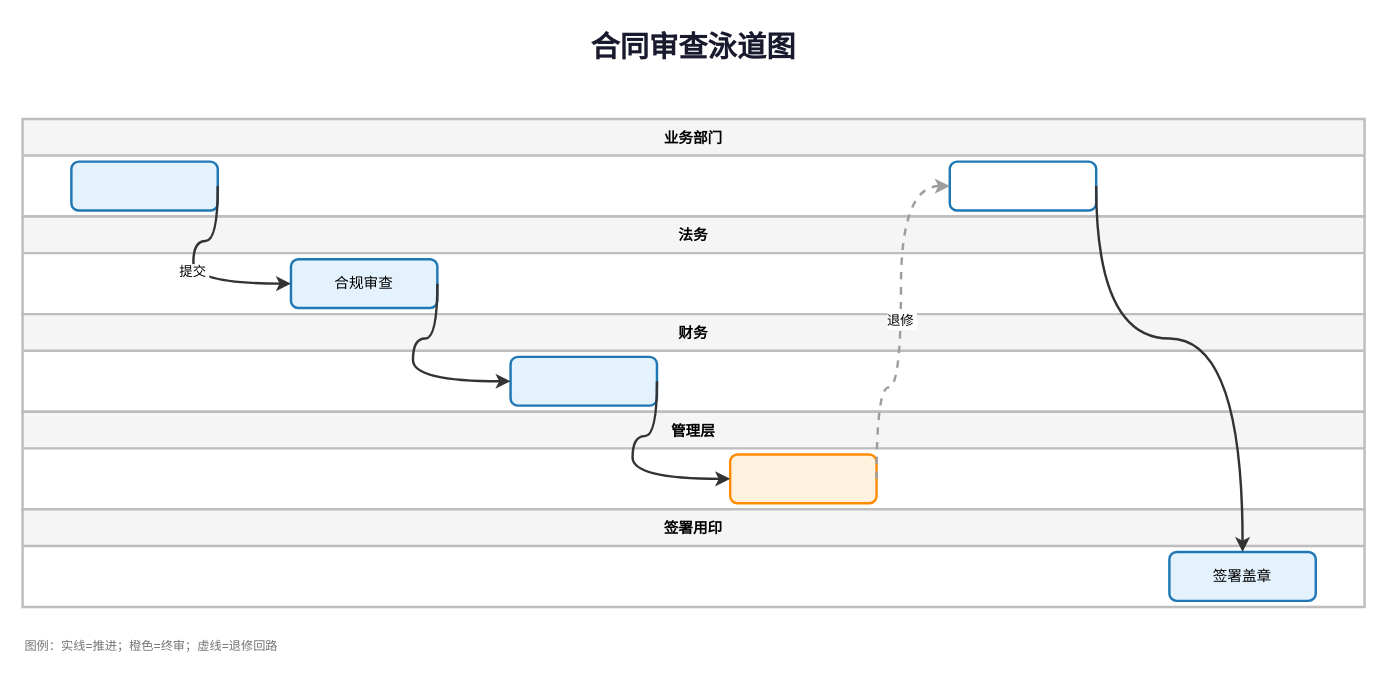
The diagram is 1386 pixels wide and 676 high, and some of its shapes have lost their labels. The shapes that lost their labels are listed below. From the top down, each one's centre as x and y in pixels, then its label:
At point (144, 185): "起草".
At point (1022, 185): "修改".
At point (583, 380): "财务评审".
At point (802, 478): "审批".
